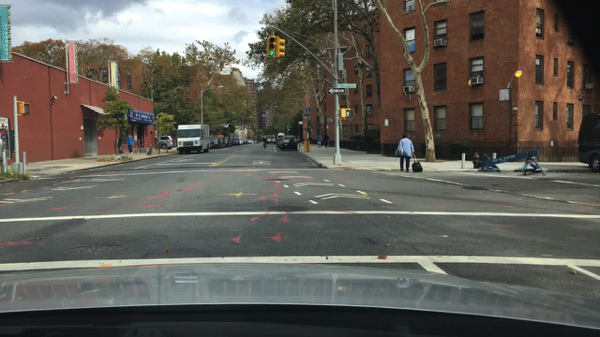car: (576, 112, 599, 173), (279, 135, 299, 151), (157, 135, 176, 150), (208, 137, 221, 150), (274, 132, 285, 142), (266, 135, 276, 145), (223, 136, 232, 147), (218, 138, 227, 149), (229, 138, 239, 147), (276, 135, 282, 147), (241, 140, 249, 146), (247, 139, 253, 144), (238, 140, 244, 144)
person: (394, 133, 414, 173), (125, 133, 135, 154), (116, 135, 123, 154), (321, 132, 329, 147), (261, 134, 268, 148), (316, 132, 321, 148)
traffic light: (276, 37, 286, 57), (266, 34, 274, 57), (19, 103, 30, 114), (341, 110, 352, 119)
traffic sign: (337, 82, 356, 89), (327, 87, 345, 94), (305, 106, 311, 112), (302, 115, 311, 119), (285, 123, 289, 129)
truck: (176, 122, 211, 155)
